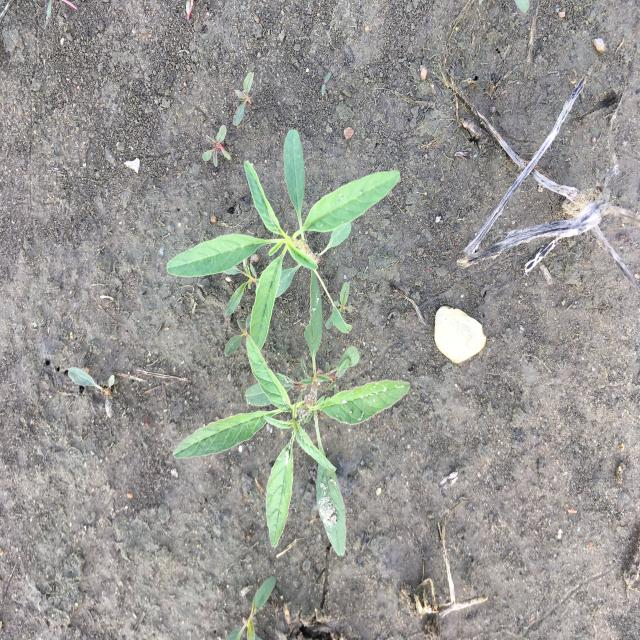Waterhemp: (172, 266, 412, 560), (165, 127, 401, 352), (230, 70, 257, 128), (202, 126, 232, 170)
